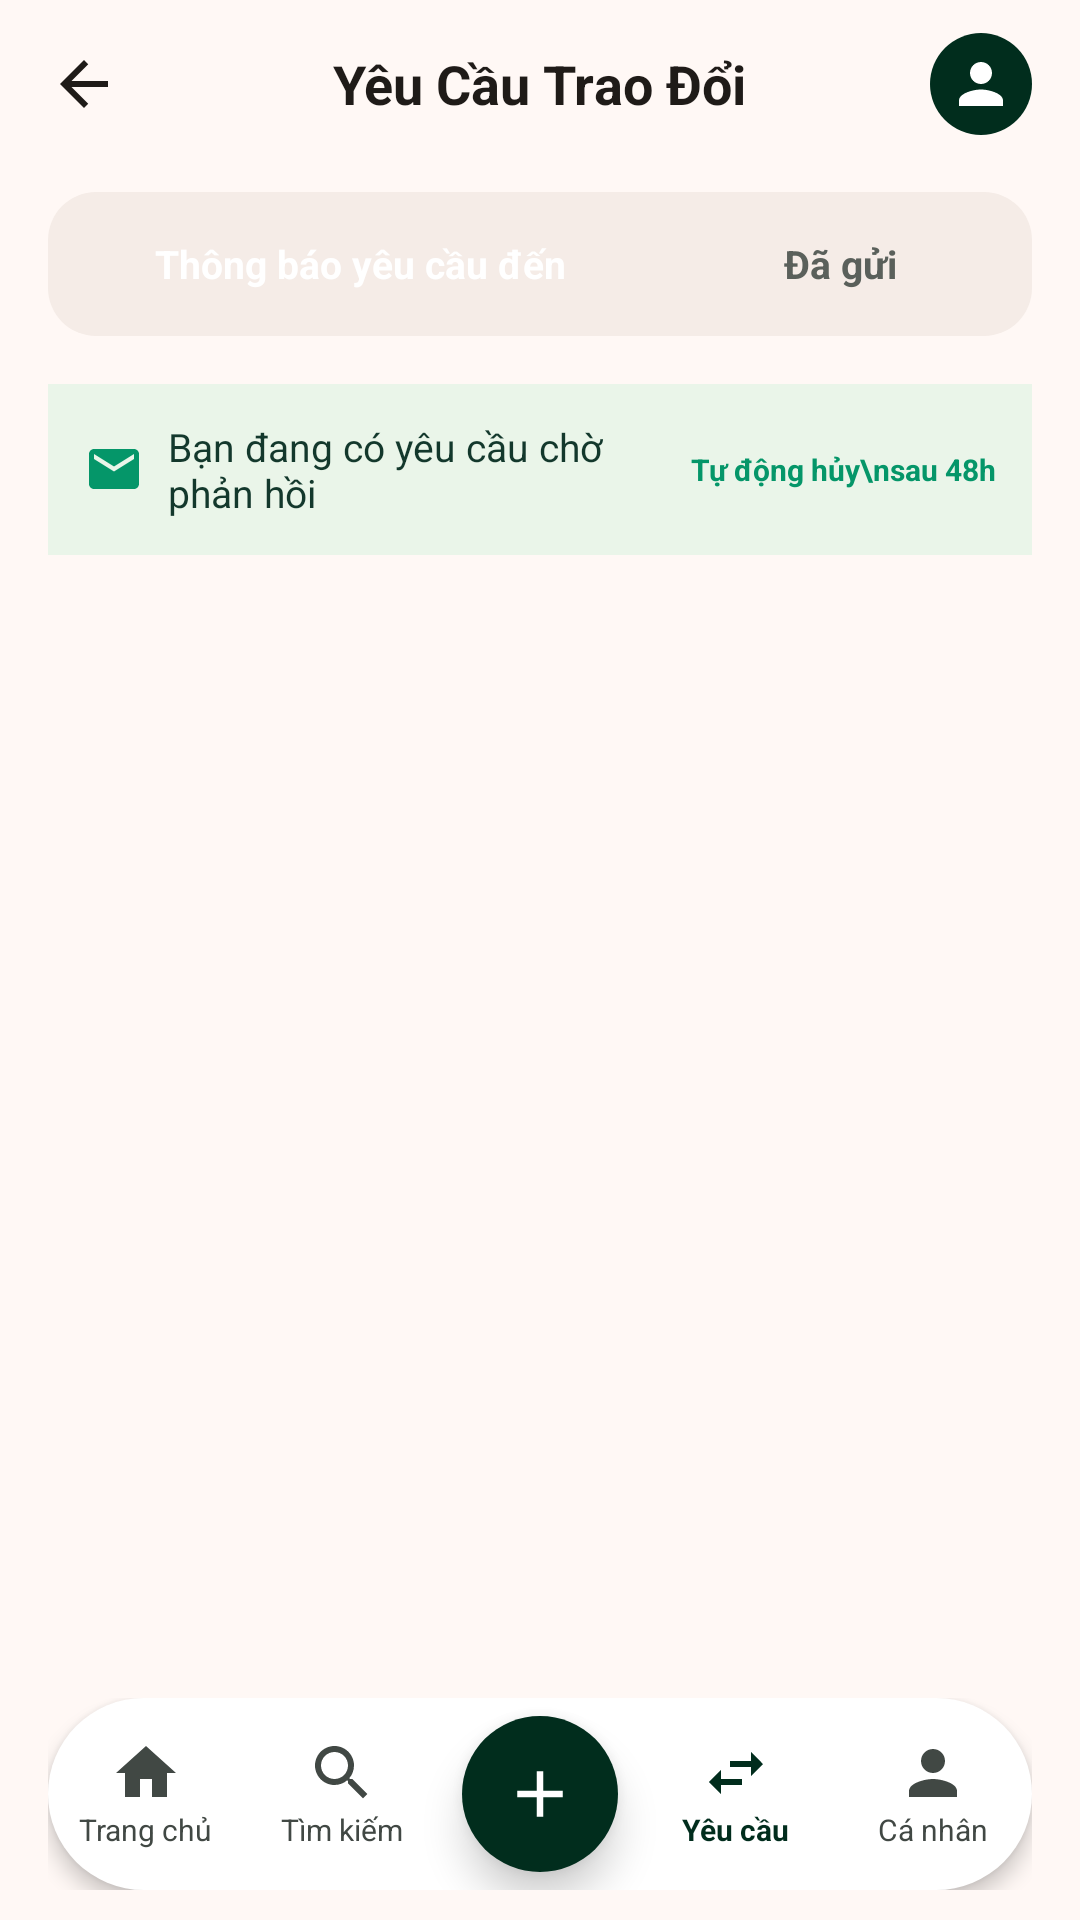

Screen size 1080x1920. Icon name, then its box in pixels as (left=x1, top=y1, right=x2, bottom=y2):
add: (left=462, top=1716, right=618, bottom=1872)
arrow back: (left=60, top=60, right=108, bottom=108)
mail: (left=89, top=449, right=139, bottom=489)
swap horiz: (left=709, top=1752, right=763, bottom=1794)
